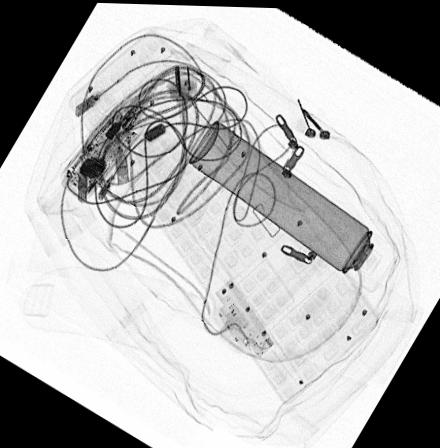Sprayer: (186, 116, 400, 290)
